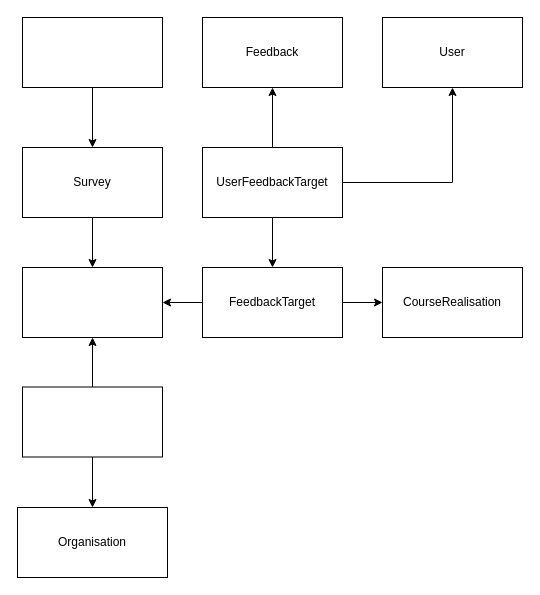
This 540x595 diagram has some shape labels left out. Here are the shapes that lost their labels. From the top down, the box of each, then its label:
(22, 16, 162, 88): Question
(22, 266, 162, 338): CourseUnit
(22, 386, 162, 457): CourseUnitsOrganisation
